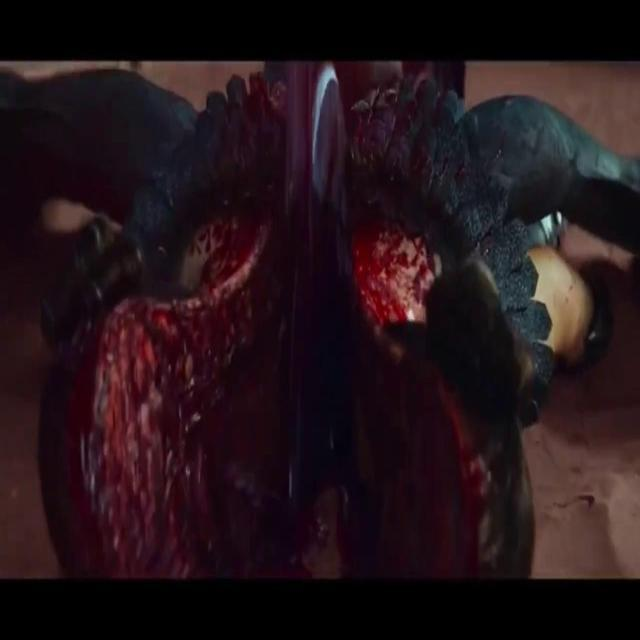flood: (70, 262, 258, 580), (344, 238, 486, 585)
